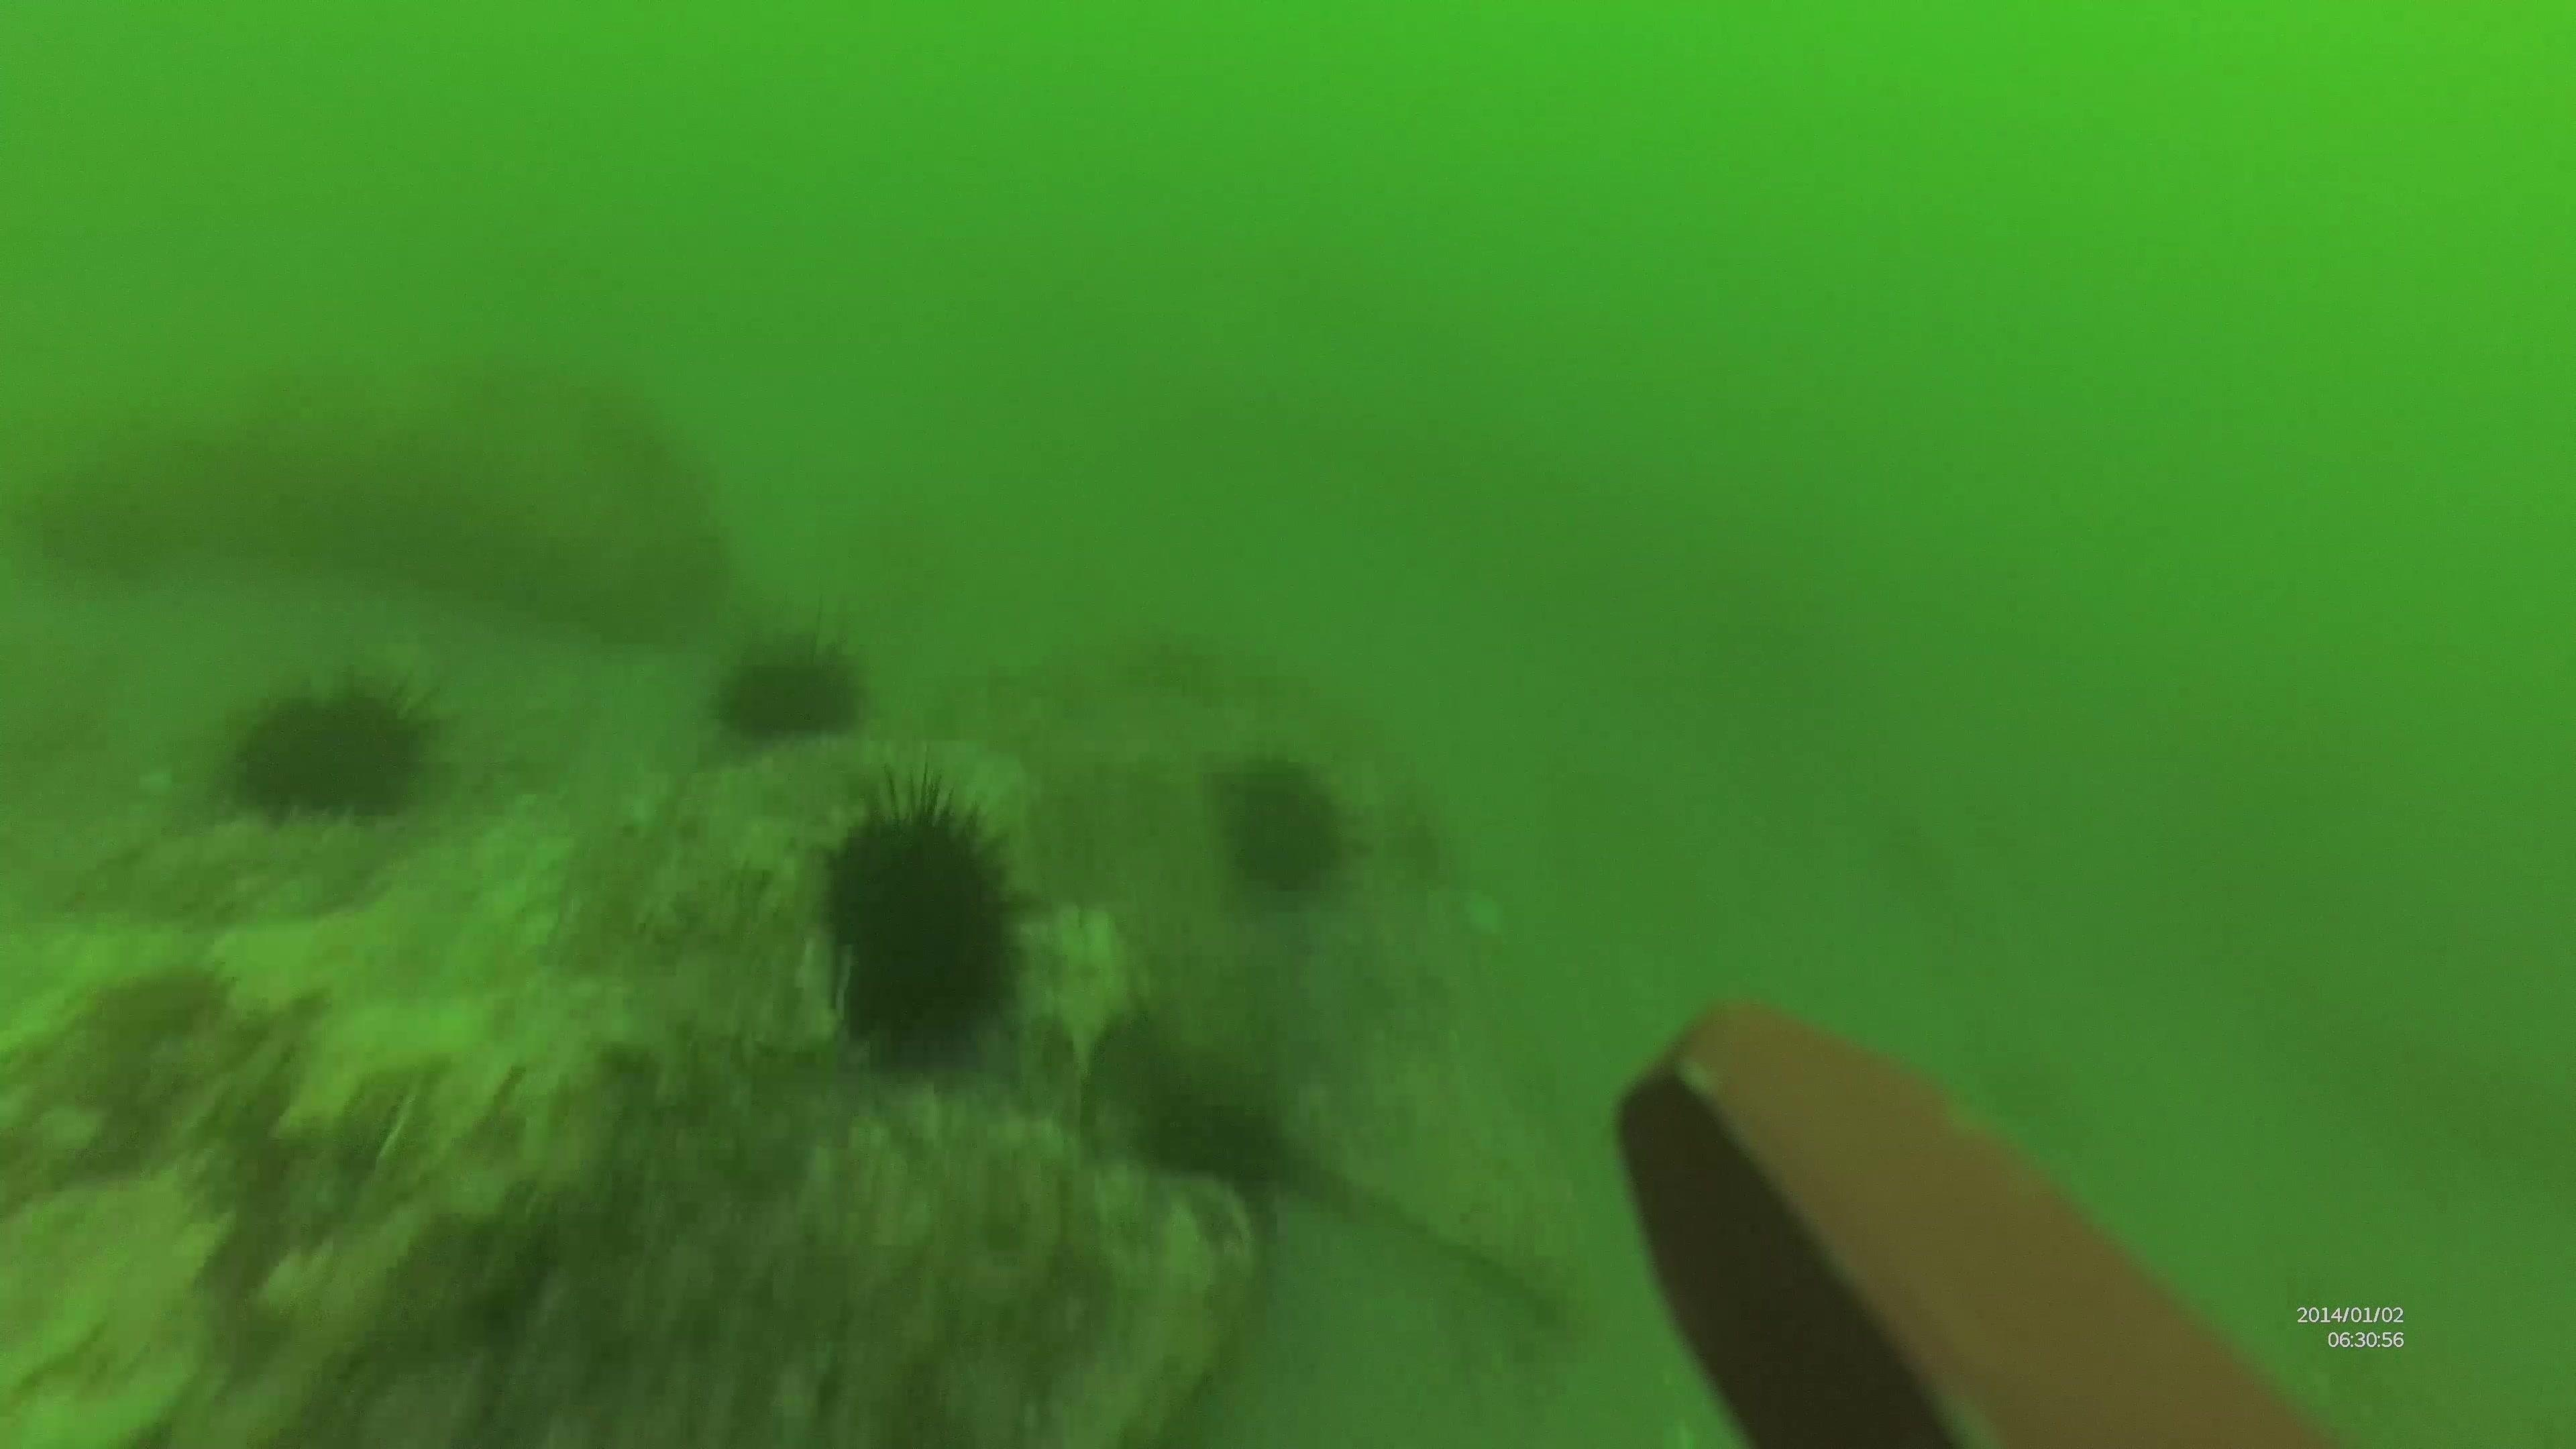echinus: (801, 773, 1044, 1072), (219, 663, 448, 830), (1208, 750, 1357, 902), (709, 621, 872, 752), (1132, 1077, 1299, 1201)
holothurian: (58, 803, 393, 934)
